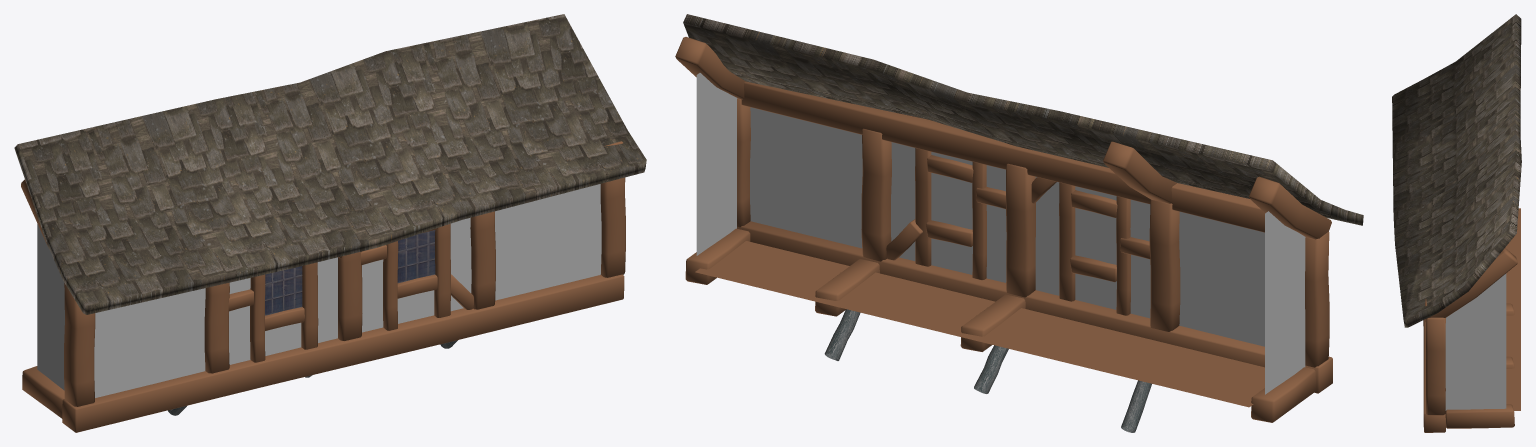
File: extra windows big.fbx
The picture shows the model from 3 angles, left to right: view 1: azimuth 30°, elevation 25°; view 2: azimuth 150°, elevation 25°; view 3: azimuth 270°, elevation 25°; orthographic projection. The views are drawn at different scales.
Parts seen in each view (by area): view 1: Cube.114; view 2: Cube.114; view 3: Cube.114.
Boxes of the visible parts, x1=… form: Cube.114: x1=14, y1=14, x2=646, y2=432; Cube.114: x1=675, y1=14, x2=1363, y2=432; Cube.114: x1=1392, y1=14, x2=1521, y2=432.
Size of the model in its own units: 859 by 430 by 208.
